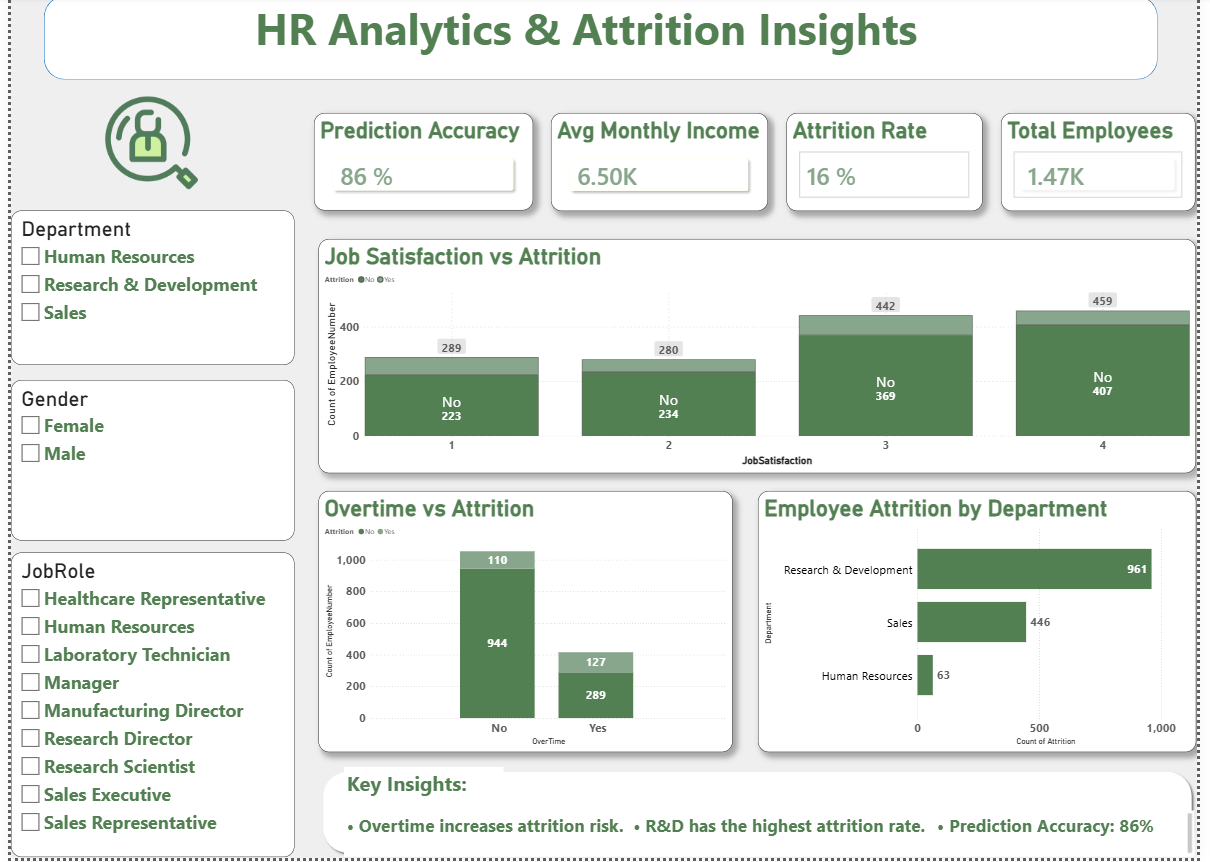

Layout of this report page (visuals, bound fields, positions):
{"tool":"powerbi","page":{"name":"Page ١","canvas":[2200,1600],"ordinal":0},"visuals":[{"type":"cardVisual","title":"Total Employees","fields":{"Data":["CountNonNull(HR-Employee-Attrition_.EmployeeNumber)"]},"box":[1838.4,217.6,360.5,181.9],"z":0},{"type":"cardVisual","title":"Attrition Rate","fields":{"Data":["HR-Employee-Attrition_.Attrition Rate"]},"box":[1438.9,217.6,363.8,181.9],"z":1000},{"type":"cardVisual","title":"Avg Monthly Income","fields":{"Data":["Avg(HR-Employee-Attrition_.MonthlyIncome)"]},"box":[1003.6,217.6,402.8,181.9],"z":2000},{"type":"clusteredBarChart","title":"Employee Attrition by Department","fields":{"Category":["HR-Employee-Attrition_.Department"],"Y":["CountNonNull(HR-Employee-Attrition_.Attrition)"]},"box":[1386.6,918.8,813,484.5],"z":3000},{"type":"columnChart","title":"Overtime vs Attrition","fields":{"Category":["HR-Employee-Attrition_.OverTime"],"Series":["HR-Employee-Attrition_.Attrition"],"Y":["CountNonNull(HR-Employee-Attrition_.EmployeeNumber)"]},"box":[570.8,918.8,768.5,484.5],"z":4000},{"type":"shape","box":[60,0,2067.2,155.2],"z":5000},{"type":"columnChart","title":"Job Satisfaction vs Attrition","fields":{"Category":["HR-Employee-Attrition_.JobSatisfaction"],"Series":["HR-Employee-Attrition_.Attrition"],"Y":["CountNonNull(HR-Employee-Attrition_.EmployeeNumber)"]},"box":[570.8,451.1,1628.8,434.3],"z":6000},{"type":"slicer","fields":{"Values":["HR-Employee-Attrition_.Department"]},"box":[0,398.2,526.2,286.8],"z":7000},{"type":"slicer","fields":{"Values":["HR-Employee-Attrition_.Gender"]},"box":[0,712.8,526.2,297.9],"z":8000},{"type":"slicer","fields":{"Values":["HR-Employee-Attrition_.JobRole"]},"box":[0,1033,526.2,565.2],"z":9000},{"type":"textbox","box":[116.4,0,1901.4,123.5],"z":10000},{"type":"image","box":[86.1,185.9,349,172.3],"z":11000},{"type":"cardVisual","title":"Prediction Accuracy","fields":{"Data":["Avg(Model.Model Accuracy)"]},"box":[562.4,217.2,406.5,181],"z":12000},{"type":"shape","box":[571.7,1430.9,1629.5,167.7],"z":13000},{"type":"textbox","box":[617.3,1432.2,296.3,81.1],"z":14000},{"type":"textbox","box":[618.1,1511.9,1578.7,86.3],"z":15000}]}

Visuals, with their boxes in screenshot pixels (x1, y1, x2, y2), scaled from the page's 2200x1600 canvas onto the 1210x862 screenshot:
"Total Employees" cardVisual: <bbox>1011, 117, 1209, 215</bbox>
"Attrition Rate" cardVisual: <bbox>791, 117, 991, 215</bbox>
"Avg Monthly Income" cardVisual: <bbox>552, 117, 774, 215</bbox>
"Employee Attrition by Department" clusteredBarChart: <bbox>763, 495, 1209, 756</bbox>
"Overtime vs Attrition" columnChart: <bbox>314, 495, 737, 756</bbox>
shape: <bbox>33, 0, 1170, 84</bbox>
"Job Satisfaction vs Attrition" columnChart: <bbox>314, 243, 1209, 477</bbox>
slicer - HR-Employee-Attrition_.Department: <bbox>0, 215, 289, 369</bbox>
slicer - HR-Employee-Attrition_.Gender: <bbox>0, 384, 289, 545</bbox>
slicer - HR-Employee-Attrition_.JobRole: <bbox>0, 557, 289, 861</bbox>
textbox: <bbox>64, 0, 1110, 67</bbox>
image: <bbox>47, 100, 239, 193</bbox>
"Prediction Accuracy" cardVisual: <bbox>309, 117, 533, 215</bbox>
shape: <bbox>314, 771, 1209, 861</bbox>
textbox: <bbox>340, 772, 502, 815</bbox>
textbox: <bbox>340, 815, 1208, 861</bbox>
